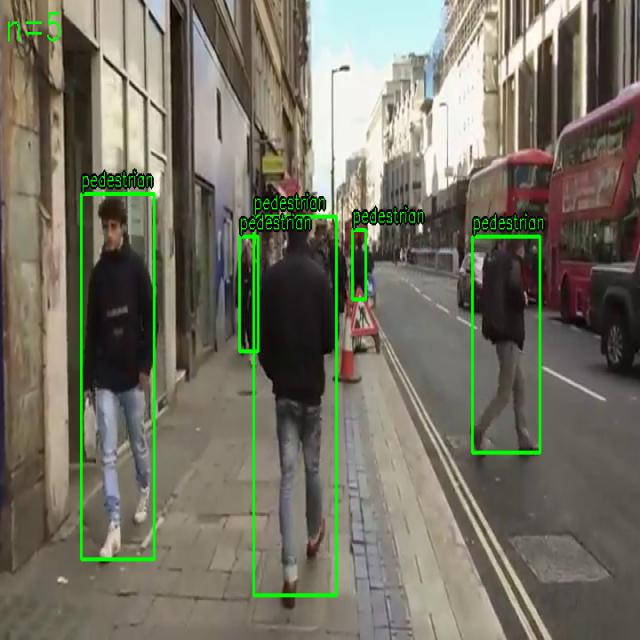with scooter: (253, 216, 337, 596), (81, 193, 155, 560), (472, 236, 540, 453), (239, 236, 259, 352), (352, 229, 366, 300)
